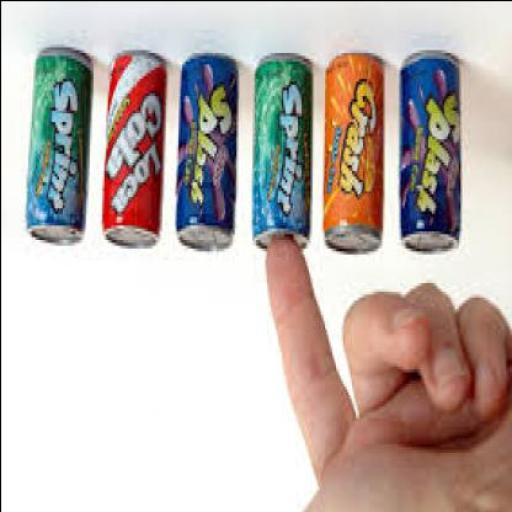metal: (29, 49, 94, 248), (103, 49, 167, 248), (400, 52, 462, 256), (177, 52, 238, 254), (326, 52, 384, 256), (255, 51, 311, 251)
